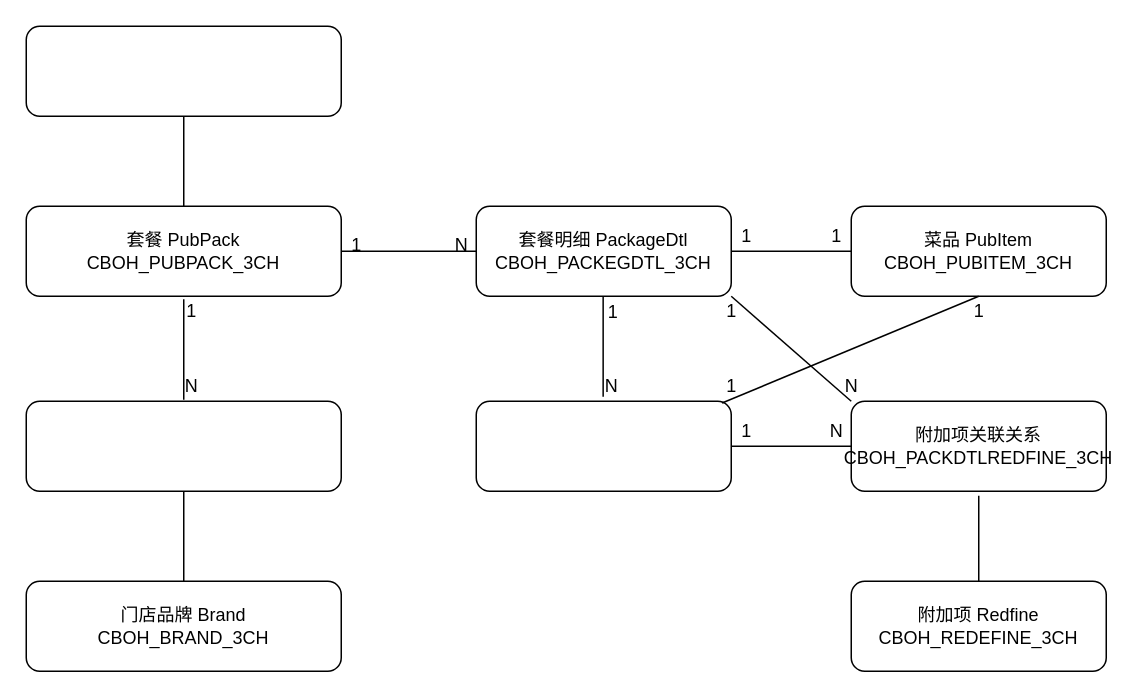
Image size: 1139x698. Some labels were removed from this diagram. The shapes that lost their labels are listed below. From the top down, each one's box as (x1, y1, x2, y2) in pixels, then its label:
(25, 25, 341, 116): 套餐类别 PackageType CBOH_PACKAGETYPE_3CH
(25, 400, 341, 491): 套餐门店编码 PubPackCode CBOH_PUBPACKCODE_3CH
(475, 400, 731, 491): 可换菜明细 ItemPkg CBOH_ITEMPKG_3CH
